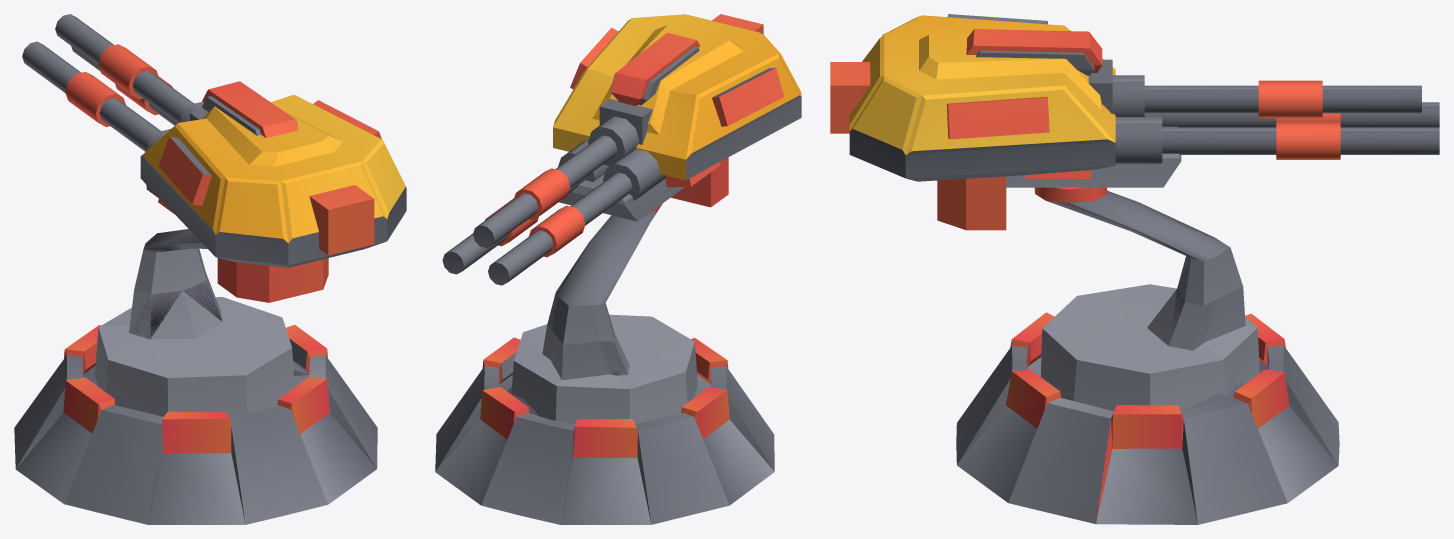
File: Breakable_Gun_06.fbx
3 views of the same model, side by side, from view 1: azimuth 30°, elevation 25°; view 2: azimuth 150°, elevation 25°; view 3: azimuth 270°, elevation 25° (orthographic). The views are drawn at different scales.
Visible parts, largest first — view 1: polySurface230, polySurface233, Gun (×3), polySurface232, polySurface237, polySurface238, polySurface235, polySurface239, polySurface231, polySurface245, polySurface240; view 2: polySurface232, polySurface230, polySurface233, Gun (×3), polySurface231, polySurface235, polySurface239, polySurface236, polySurface243, polySurface237, polySurface242, polySurface246 (+5 smaller); view 3: polySurface232, polySurface230, polySurface233, Gun (×3), polySurface231, polySurface240, polySurface237, polySurface235, polySurface236, polySurface241, polySurface238, polySurface242 (+3 smaller).
Part boxes in pixels (x1,y1,x2,y2): polySurface230: [14, 281, 377, 524]; polySurface233: [140, 94, 406, 267]; Gun (×3): [22, 14, 193, 151]; polySurface232: [64, 248, 327, 375]; polySurface237: [217, 258, 328, 302]; polySurface238: [309, 185, 374, 255]; polySurface235: [202, 81, 298, 138]; polySurface239: [158, 136, 211, 205]; polySurface231: [143, 229, 207, 252]; polySurface245: [202, 96, 297, 135]; polySurface240: [313, 100, 381, 138]; polySurface232: [435, 292, 651, 524]; polySurface230: [507, 314, 774, 524]; polySurface233: [553, 14, 801, 180]; Gun (×3): [442, 135, 632, 285]; polySurface231: [556, 204, 661, 305]; polySurface235: [610, 32, 700, 105]; polySurface239: [712, 67, 784, 126]; polySurface236: [559, 174, 684, 221]; polySurface243: [603, 149, 665, 200]; polySurface237: [671, 157, 728, 207]; polySurface242: [588, 116, 639, 166]; polySurface246: [599, 99, 652, 144]; polySurface232: [1096, 247, 1339, 524]; polySurface230: [956, 284, 1245, 523]; polySurface233: [849, 15, 1115, 181]; Gun (×3): [1144, 80, 1439, 159]; polySurface231: [1046, 191, 1230, 261]; polySurface240: [946, 96, 1049, 139]; polySurface237: [937, 176, 1006, 230]; polySurface235: [966, 29, 1102, 72]; polySurface236: [1006, 126, 1181, 187]; polySurface241: [1115, 117, 1162, 163]; polySurface238: [830, 62, 870, 133]; polySurface242: [1112, 75, 1144, 116].
Bounding box in the file's own units: 147 × 172 × 234.
Materials: 2 (2 with a texture image).
